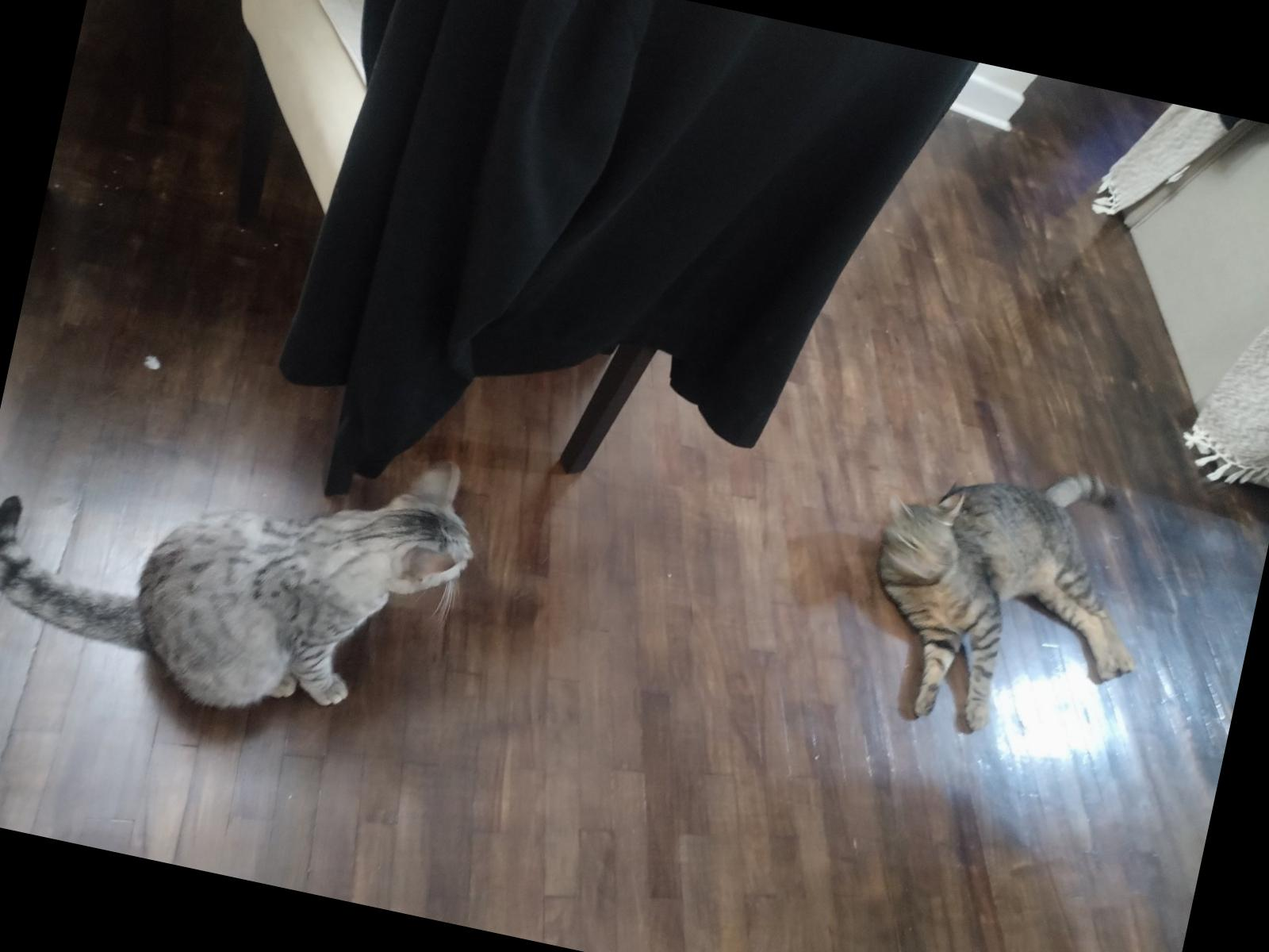macka: (0, 374, 494, 755), (843, 434, 1175, 762)
